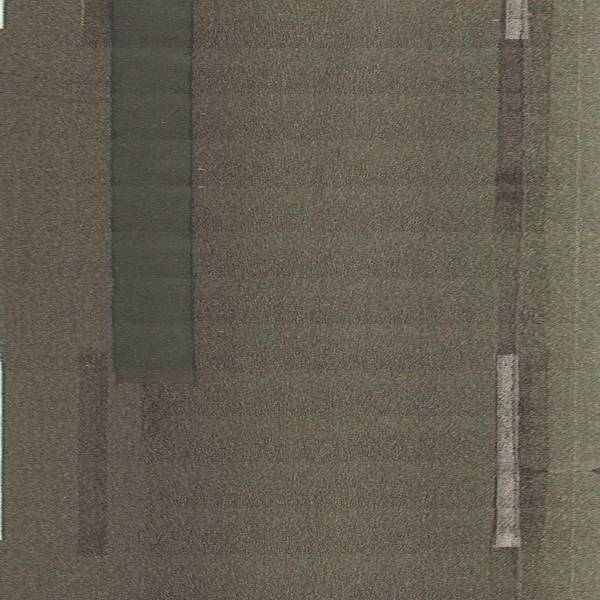road_damage: (102, 1, 203, 394), (527, 461, 600, 479)
